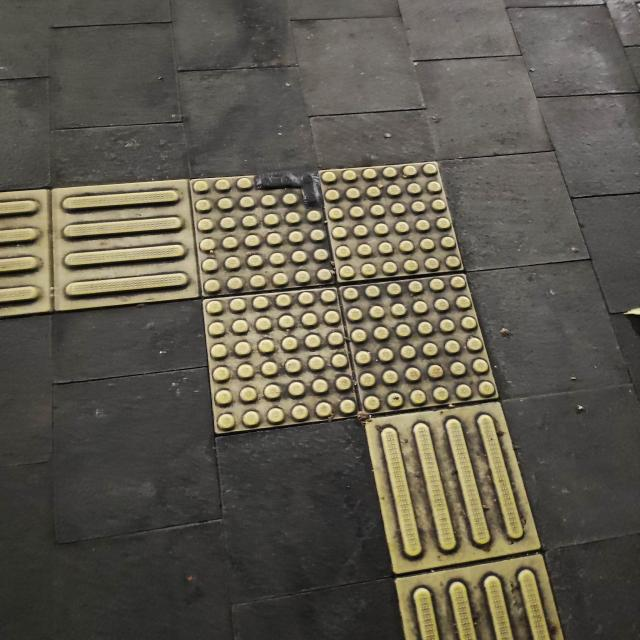kiri: (9, 135, 598, 582)
